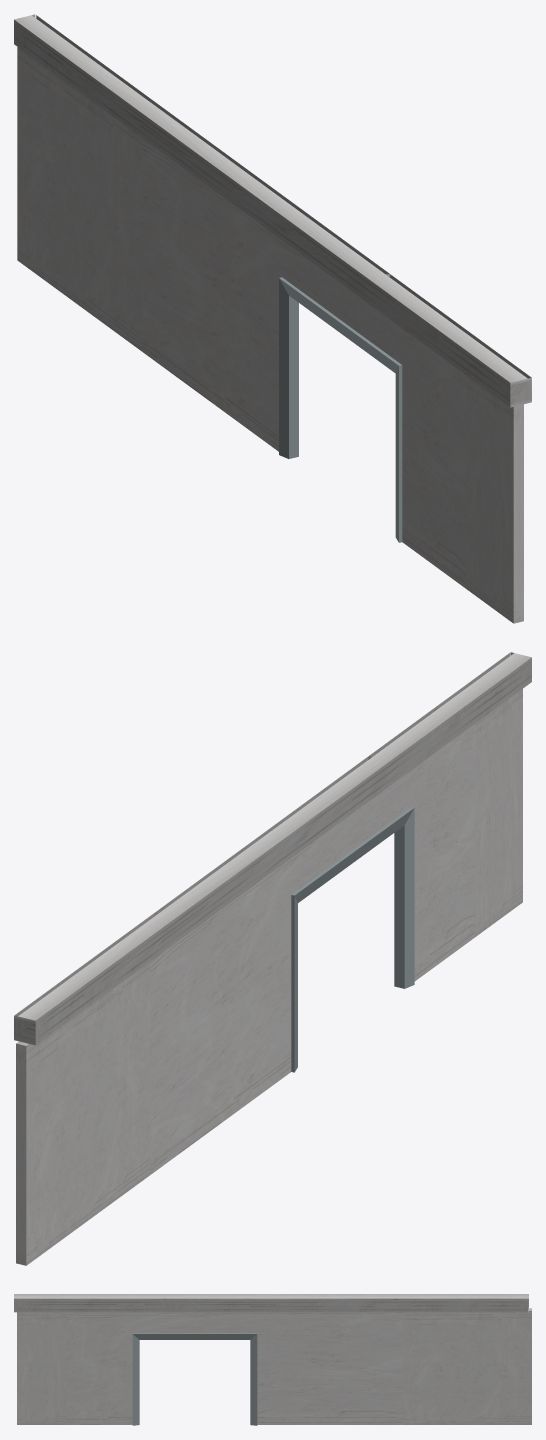
File: school ark 2.fbx
3 renders of one model, top to bottom at view 1: azimuth 30°, elevation 25°; view 2: azimuth 150°, elevation 25°; view 3: azimuth 270°, elevation 25°, orthographic. The views are drawn at different scales.
Visible parts, largest first — view 1: Cube.181, Cube.180, Cube.188, classroom walls.115, Cube.186, Cube.187, Cube.189, classroom walls.116, classroom walls.114, Cube.179, Cube.185, Cube.184 (+2 smaller); view 2: Cube.181, Cube.180, Cube.188, classroom walls.115, Cube.186, Cube.187, classroom walls.116, classroom walls.114, Cube.179, Cube.189, Cube.185, Cube.182 (+2 smaller); view 3: Cube.181, Cube.180, Cube.188, Cube.186, classroom walls.115, Cube.187, Cube.179, classroom walls.116, Cube.189, Cube.185, classroom walls.114, Cube.183 (+2 smaller).
Boxes of the visible parts, x1=… form: Cube.181: x1=141, y1=137, x2=278, y2=451; Cube.180: x1=17, y1=47, x2=140, y2=350; Cube.188: x1=21, y1=49, x2=141, y2=350; classroom walls.115: x1=141, y1=103, x2=390, y2=303; Cube.186: x1=158, y1=150, x2=457, y2=372; Cube.187: x1=402, y1=369, x2=466, y2=588; Cube.189: x1=467, y1=376, x2=523, y2=623; classroom walls.116: x1=363, y1=274, x2=531, y2=407; classroom walls.114: x1=14, y1=14, x2=157, y2=141; Cube.179: x1=466, y1=375, x2=513, y2=623; Cube.185: x1=402, y1=392, x2=465, y2=588; Cube.184: x1=279, y1=278, x2=298, y2=458; Cube.181: x1=150, y1=905, x2=291, y2=1174; Cube.180: x1=16, y1=1043, x2=149, y2=1265; Cube.188: x1=16, y1=961, x2=150, y2=1174; classroom walls.115: x1=135, y1=756, x2=390, y2=946; Cube.186: x1=167, y1=729, x2=467, y2=949; Cube.187: x1=414, y1=724, x2=475, y2=936; classroom walls.116: x1=368, y1=652, x2=531, y2=784; classroom walls.114: x1=14, y1=927, x2=169, y2=1045; Cube.179: x1=475, y1=722, x2=522, y2=936; Cube.189: x1=477, y1=689, x2=522, y2=901; Cube.185: x1=414, y1=839, x2=474, y2=981; Cube.182: x1=394, y1=808, x2=414, y2=988; Cube.181: x1=257, y1=1312, x2=403, y2=1424; Cube.180: x1=404, y1=1311, x2=531, y2=1424; Cube.188: x1=403, y1=1308, x2=531, y2=1424; Cube.186: x1=70, y1=1312, x2=395, y2=1338; classroom walls.115: x1=160, y1=1294, x2=402, y2=1312; Cube.187: x1=66, y1=1312, x2=132, y2=1424; Cube.179: x1=17, y1=1312, x2=66, y2=1424; classroom walls.116: x1=14, y1=1294, x2=166, y2=1312; Cube.189: x1=17, y1=1312, x2=65, y2=1424; Cube.185: x1=66, y1=1347, x2=132, y2=1424; classroom walls.114: x1=394, y1=1294, x2=528, y2=1312; Cube.183: x1=132, y1=1333, x2=257, y2=1339.
Bounding box in the file's own units: 0.495 × 5.38 × 19.9.
Materials: 2 (1 with a texture image).
